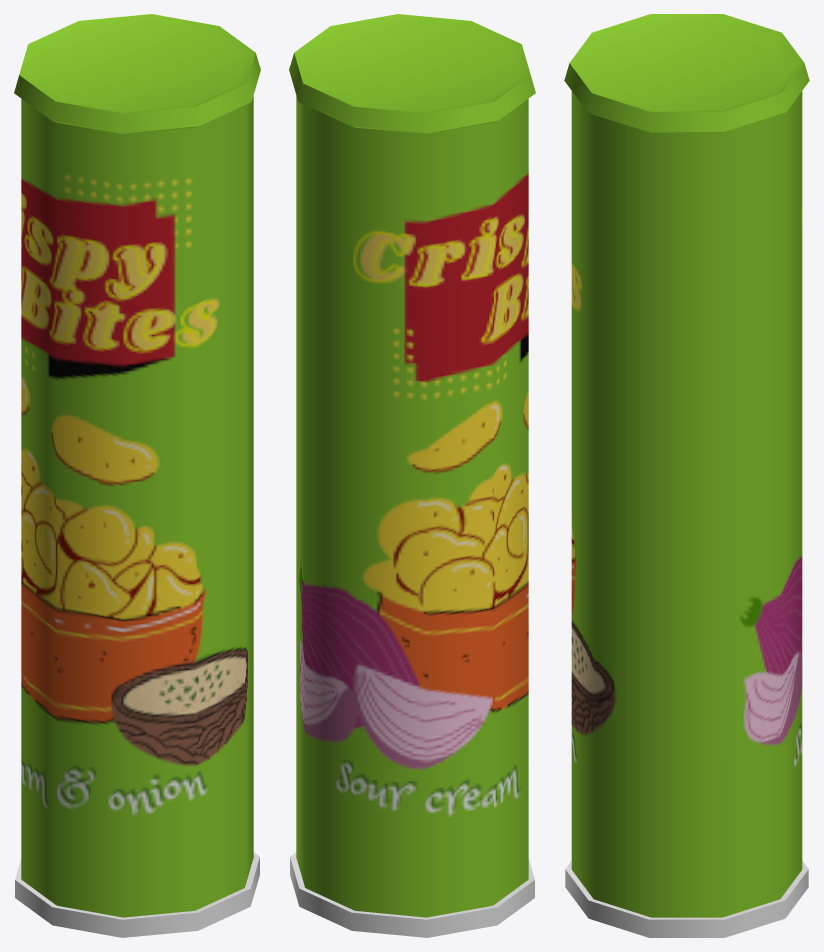
Rendered from can_chips_onion.fbx.
The picture shows the model from 3 angles, left to right: view 1: azimuth 30°, elevation 25°; view 2: azimuth 150°, elevation 25°; view 3: azimuth 270°, elevation 25°; orthographic projection.
Parts seen in each view (by area): view 1: can_chips_onion; view 2: can_chips_onion; view 3: can_chips_onion.
Part boxes in pixels (x1,y1,x2,y2): can_chips_onion: (14, 14, 260, 937); can_chips_onion: (289, 14, 535, 937); can_chips_onion: (564, 14, 809, 937).
Size of the model in its own units: 52.19 by 196 by 52.92.
